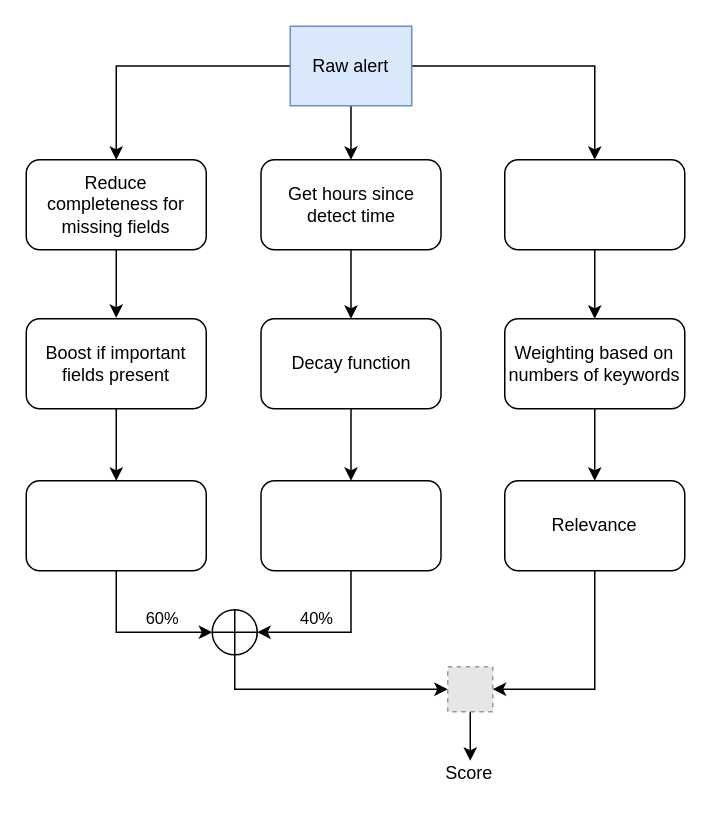
The diagram is 711 pixels wide and 813 high, and some of its shapes have lost their labels. Grey dashed boxes stand in for pictures. The shapes that lost their labels are listed below. From the top down, each one's centre as x and y in pixels, then its label:
the point at 594,204: Counting node type specific keywords in alert
the point at 115,525: Completeness
the point at 350,525: Freshness
